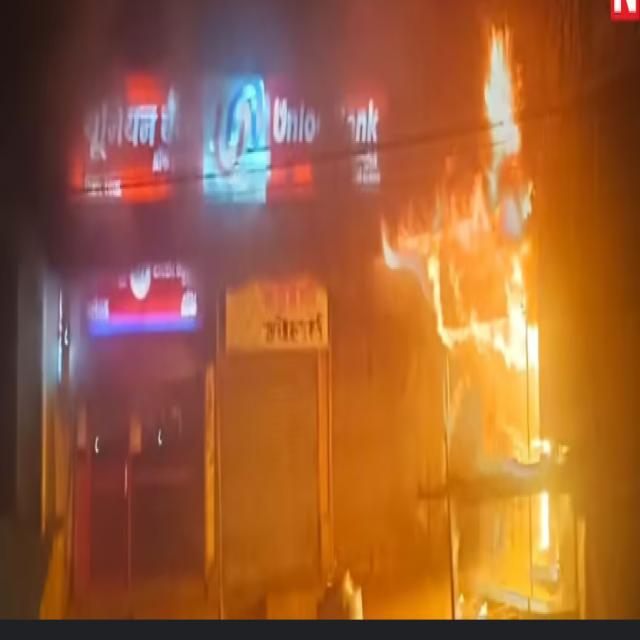fire: (380, 157, 531, 307), (485, 23, 521, 154), (506, 254, 538, 370)
